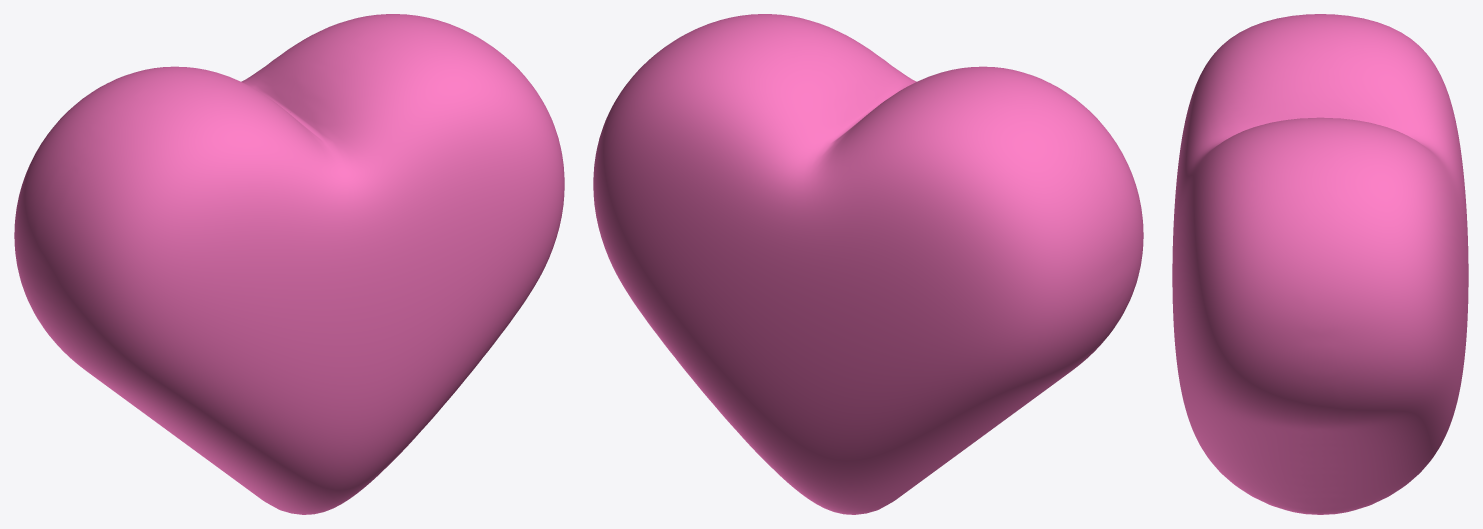
Rendered from herz.glb.
3 renders of one model, left to right at view 1: azimuth 30°, elevation 25°; view 2: azimuth 150°, elevation 25°; view 3: azimuth 270°, elevation 25°, orthographic. The views are drawn at different scales.
Visible parts, largest first — view 1: herz; view 2: herz; view 3: herz.
Boxes of the visible parts, left/top/right/bottom form: herz: left=14, top=14, right=564, bottom=514; herz: left=593, top=14, right=1143, bottom=514; herz: left=1172, top=14, right=1468, bottom=514.
Size of the model in its own units: 1.66 by 1.42 by 0.8848.
